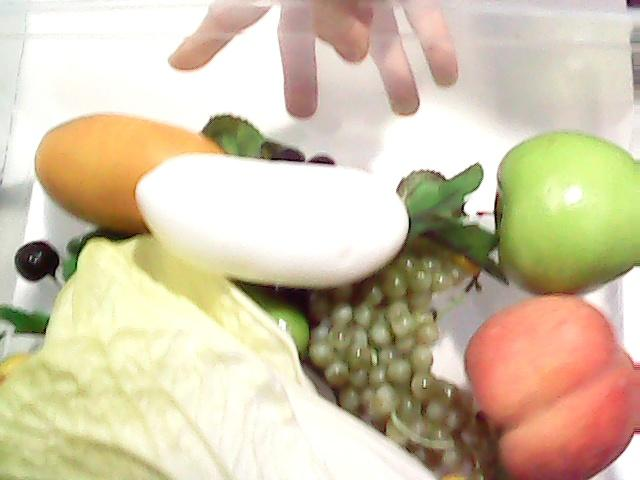apple: (487, 128, 638, 298)
grape: (304, 262, 493, 470)
mango: (34, 112, 270, 239)
napa cabbage: (0, 244, 454, 480)
peach: (463, 296, 637, 480)
pepper: (66, 220, 304, 356)
radish: (134, 149, 510, 295)
